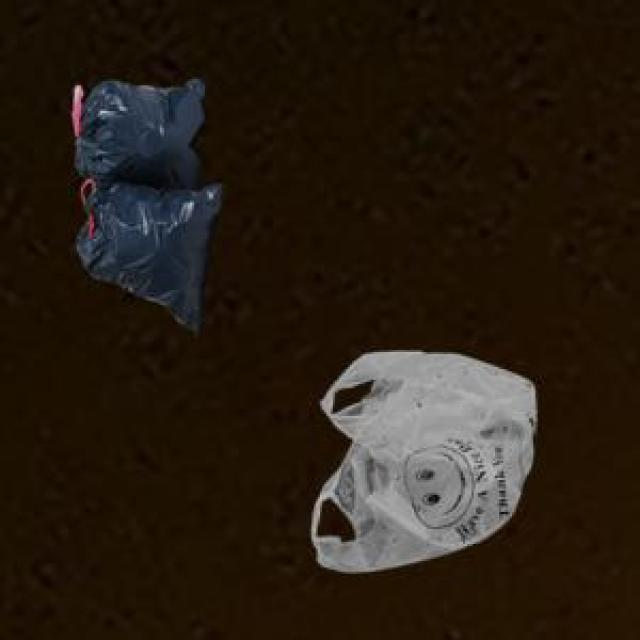miscellaneous trash: (68, 75, 220, 331)
